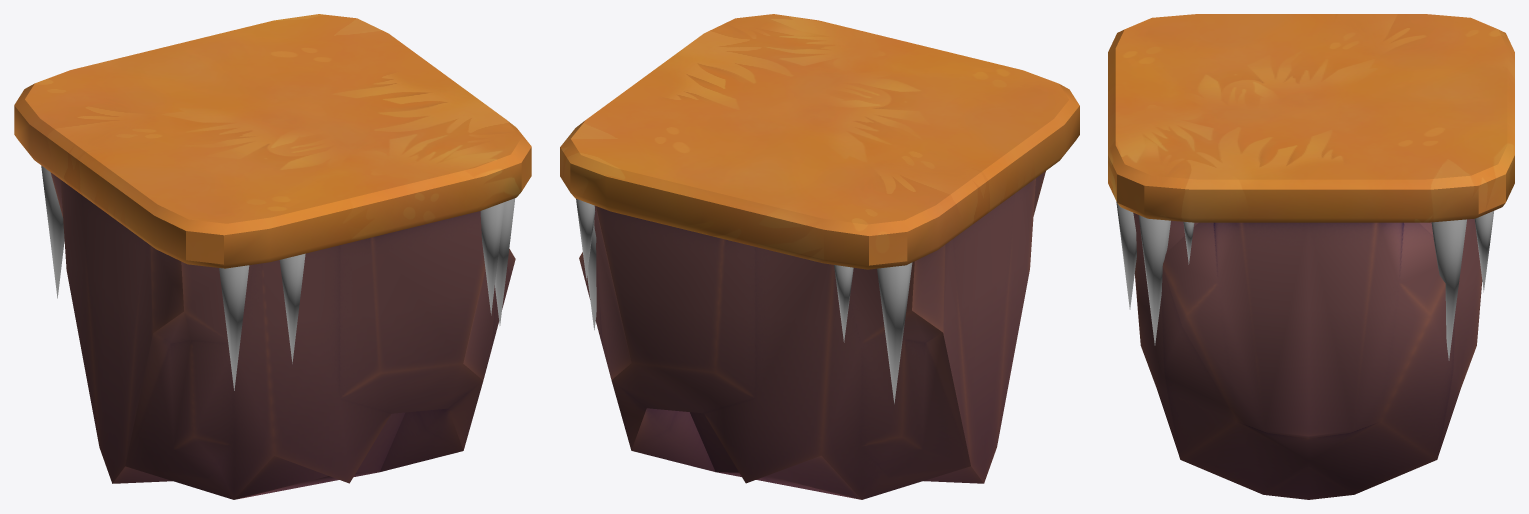
Rendered from 4R Side.FBX.
The picture shows the model from 3 angles, left to right: view 1: azimuth 30°, elevation 25°; view 2: azimuth 150°, elevation 25°; view 3: azimuth 270°, elevation 25°; orthographic projection. The views are drawn at different scales.
Visible parts, largest first — view 1: 4R Side, Ice Rock027, Ice Rock021, Ice Rock026, Ice Rock023, Ice Rock022; view 2: 4R Side, Ice Rock023, Ice Rock019, Ice Rock024, Ice Rock018; view 3: 4R Side, Ice Rock018, Ice Rock022, Ice Rock021, Ice Rock019.
Part boxes in pixels (x1,y1,x2,y2): 4R Side: (14, 14, 531, 499); Ice Rock027: (219, 265, 249, 390); Ice Rock021: (480, 202, 504, 315); Ice Rock026: (279, 253, 305, 363); Ice Rock023: (41, 165, 64, 298); Ice Rock022: (495, 198, 515, 325); 4R Side: (560, 14, 1079, 499); Ice Rock023: (877, 262, 912, 403); Ice Rock019: (576, 198, 595, 280); Ice Rock024: (834, 265, 853, 342); Ice Rock018: (587, 220, 596, 330); 4R Side: (1108, 14, 1514, 499); Ice Rock018: (1431, 219, 1466, 360); Ice Rock022: (1138, 215, 1170, 345); Ice Rock021: (1116, 201, 1136, 309); Ice Rock019: (1474, 211, 1493, 292).
Bounding box in the file's own units: 10.82 × 10.63 × 9.94.
